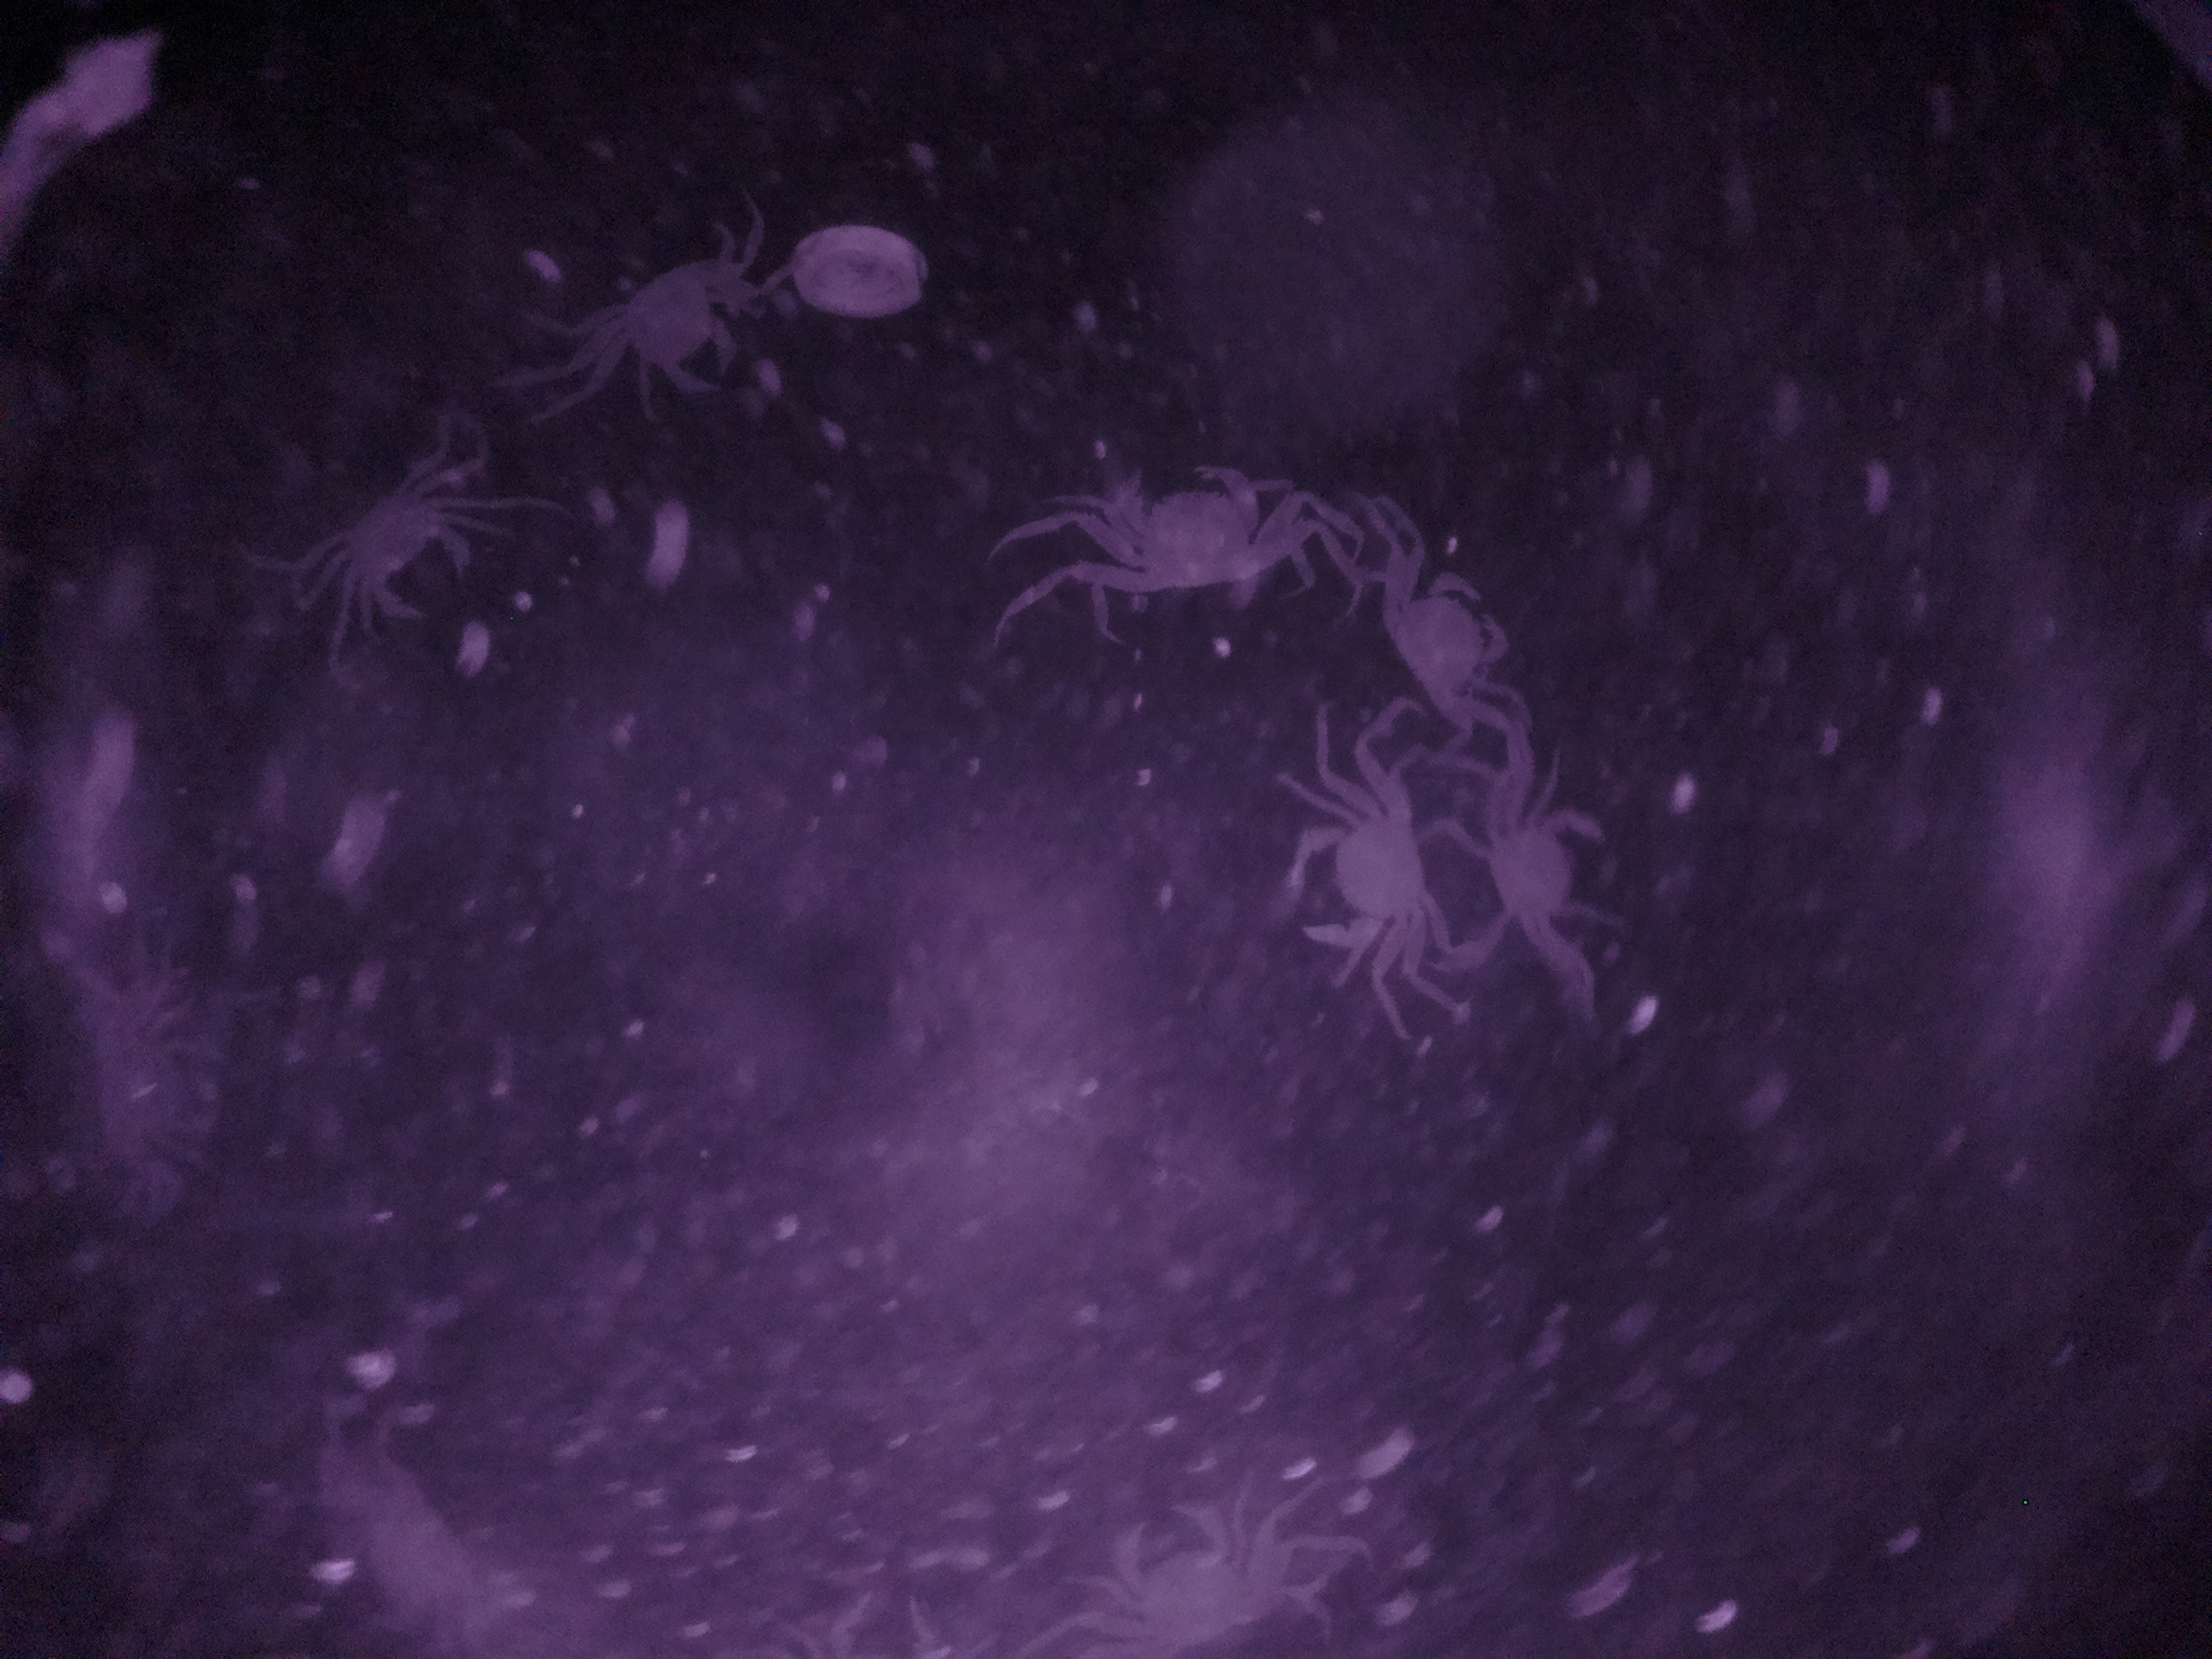Crab: (1040, 448, 1317, 606), (578, 230, 791, 406), (1263, 767, 1456, 960), (1357, 533, 1519, 739)
